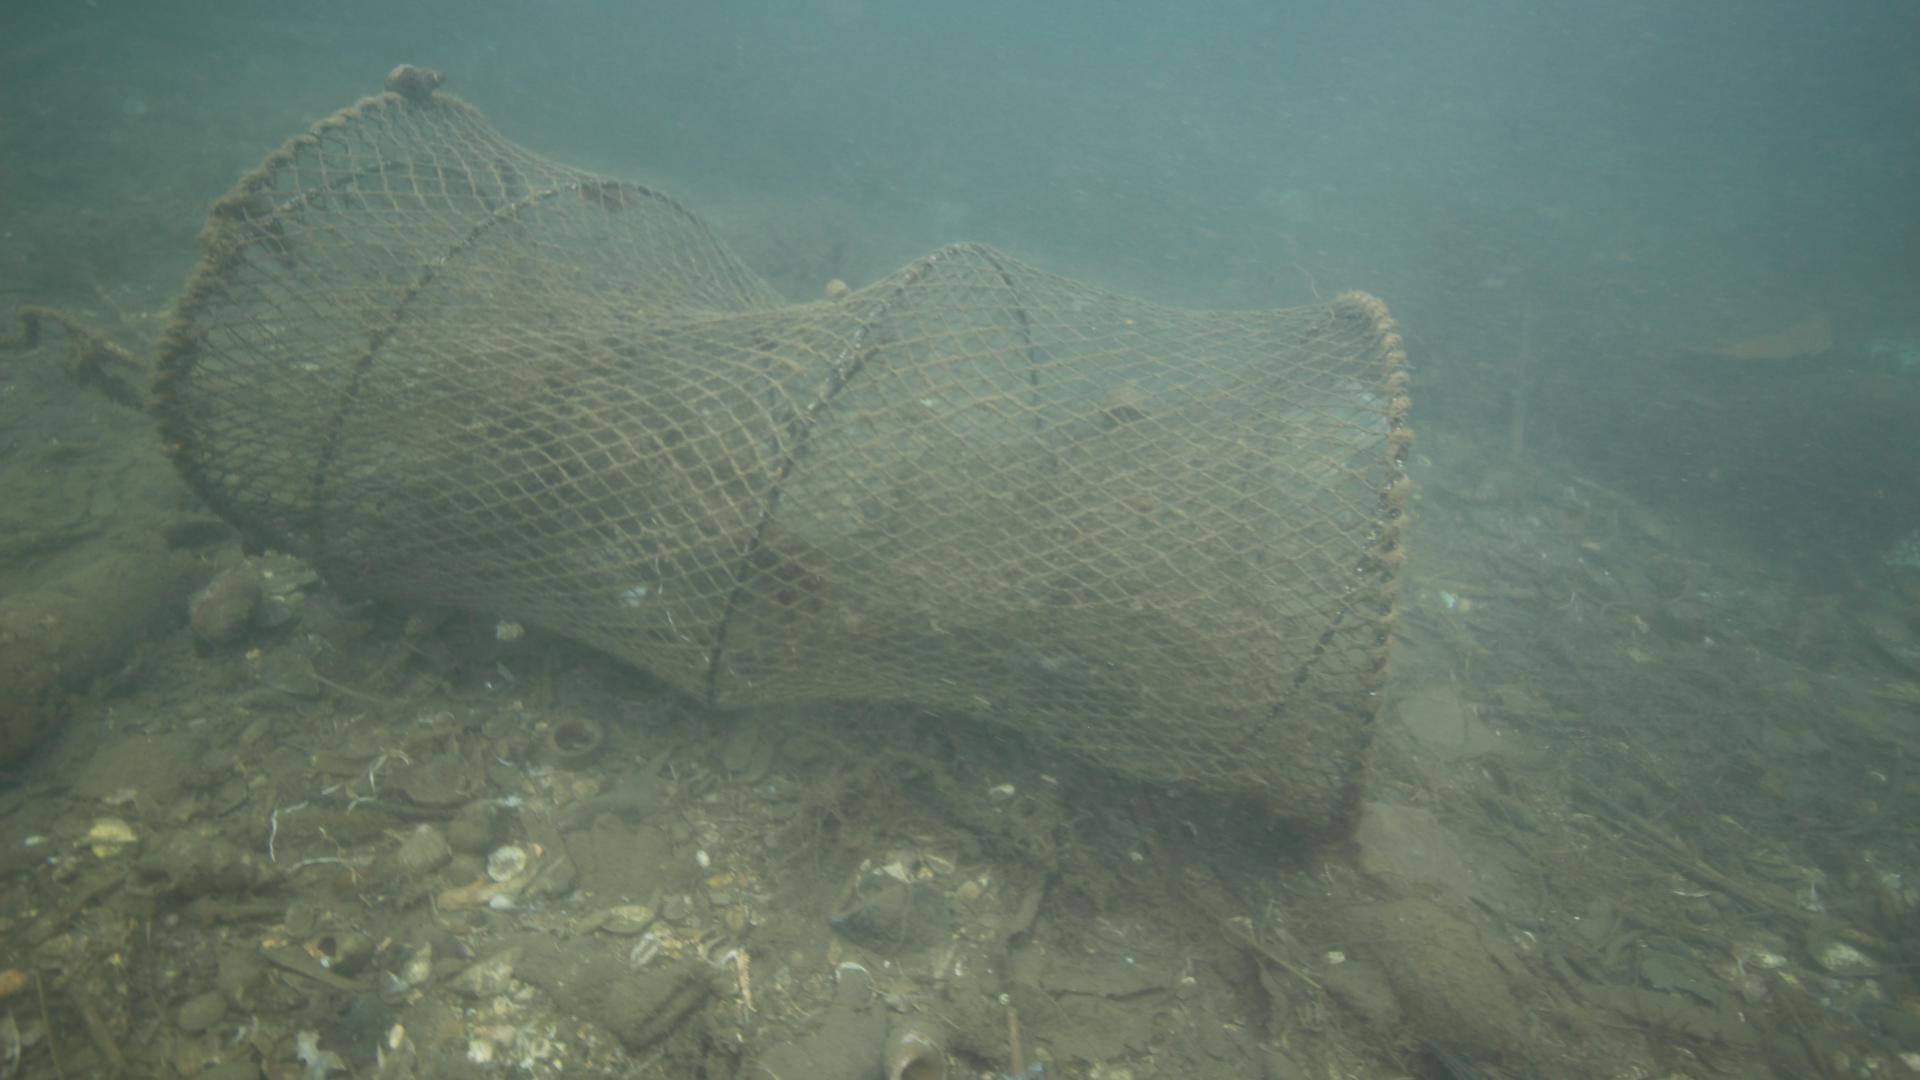spring fish trap: (152, 84, 1408, 832)
